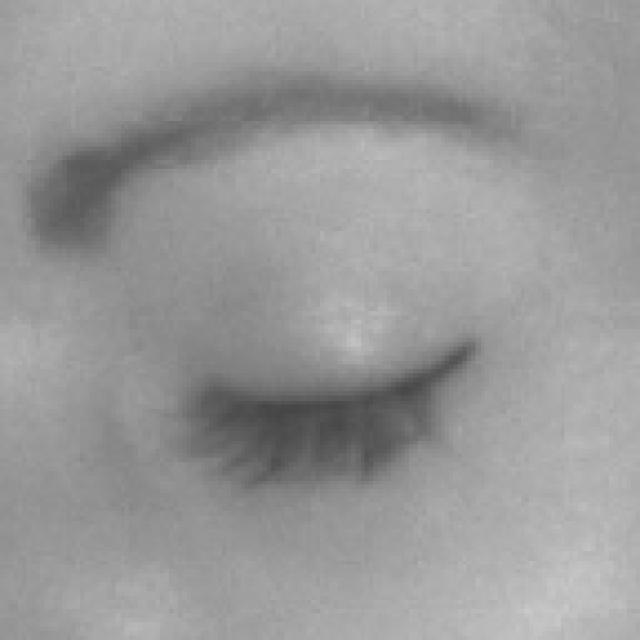close: (0, 33, 592, 598)
